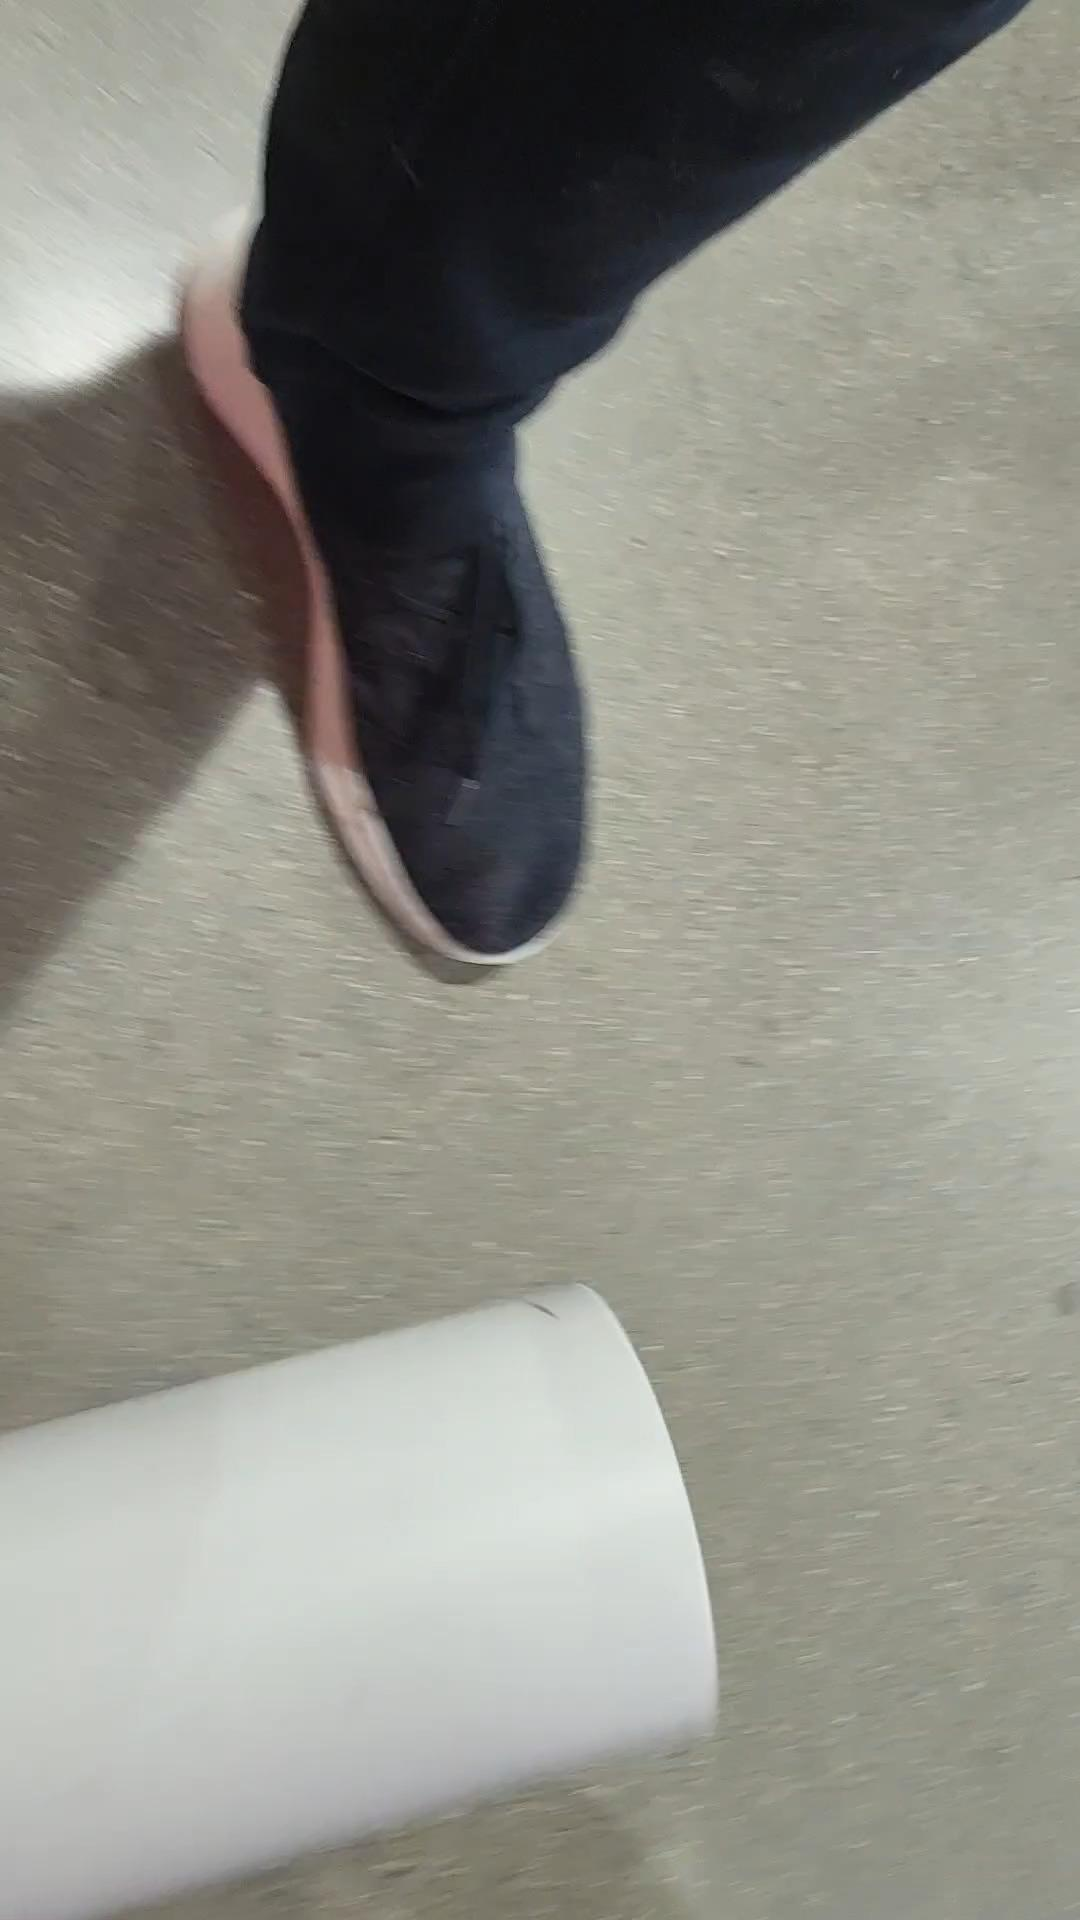coral: (0, 1277, 722, 1920)
